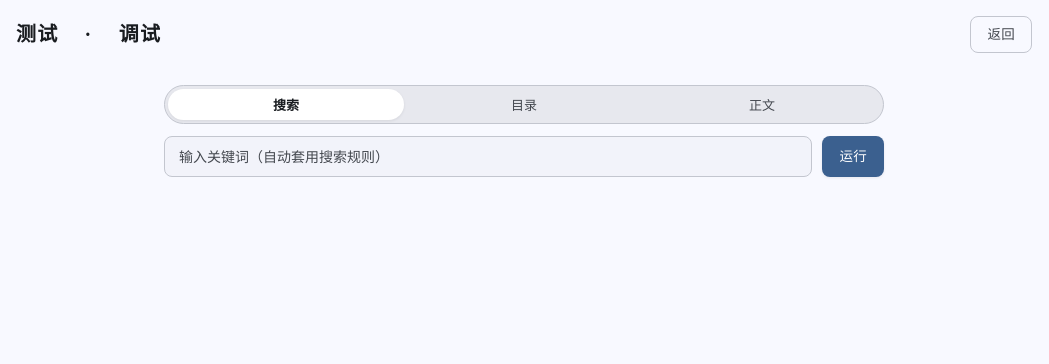
Test: DebugSourcePage › runs a stage and shows fields
Type "三体" into the field named "URL 或关键词" at (488, 156), box [164,136,812,177]
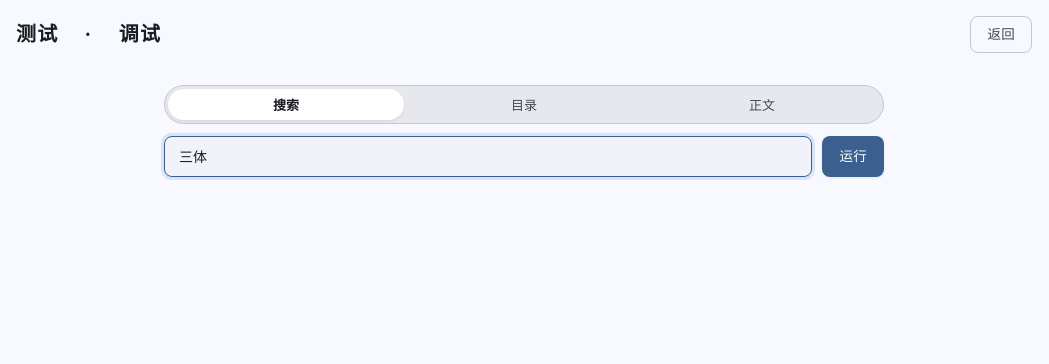
Click the button "运行" at (853, 156), box [822,136,884,177]
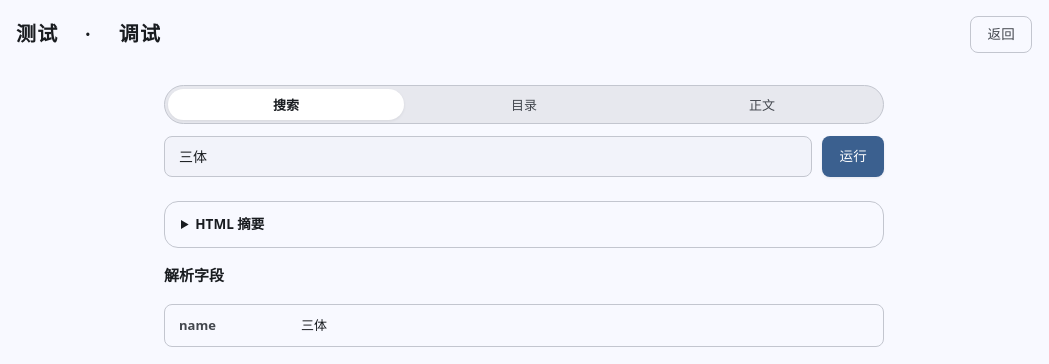
Result: the text "name" is shown at [179,316,216,334]
Result: the text "三体" is shown at [301,316,327,336]
